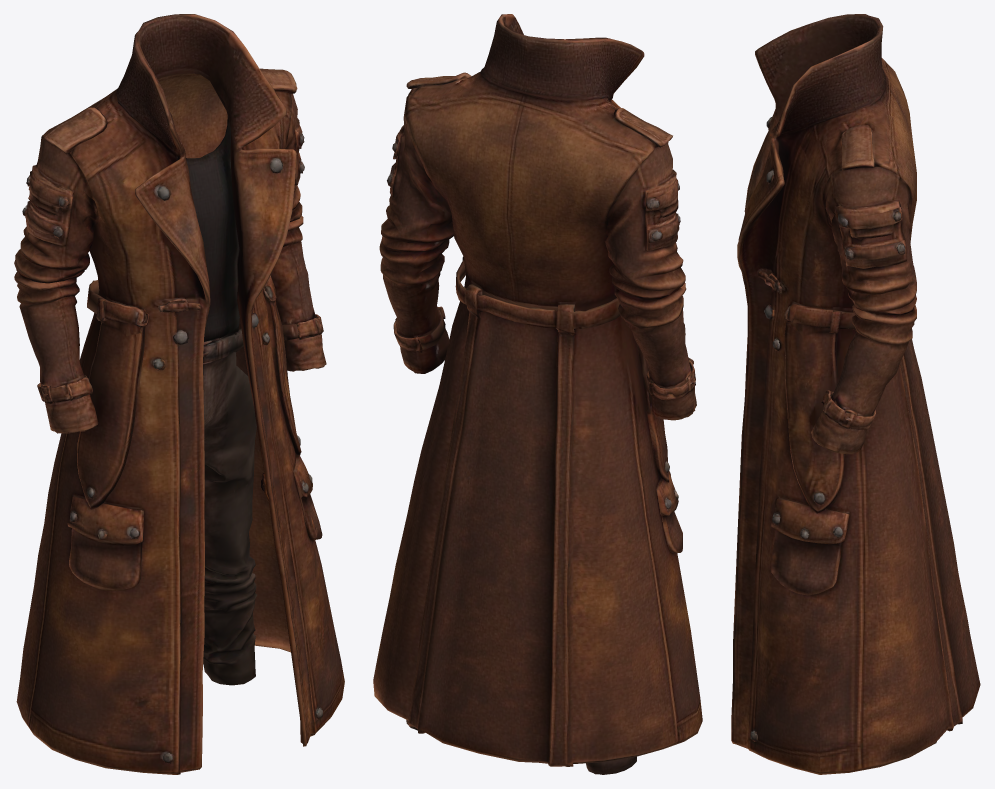
3 renders of one model, left to right at view 1: azimuth 30°, elevation 25°; view 2: azimuth 150°, elevation 25°; view 3: azimuth 270°, elevation 25°, orthographic. The views are drawn at different scales.
Visible parts, largest first — view 1: Model_0; view 2: Model_0; view 3: Model_0.
Boxes of the visible parts, bbox=[...] form: Model_0: bbox=[14, 14, 344, 774]; Model_0: bbox=[373, 14, 702, 774]; Model_0: bbox=[731, 14, 980, 774].
Bounding box in the file's own units: 0.4599 × 1 × 0.3307.
Materials: 1 (1 with a texture image).
